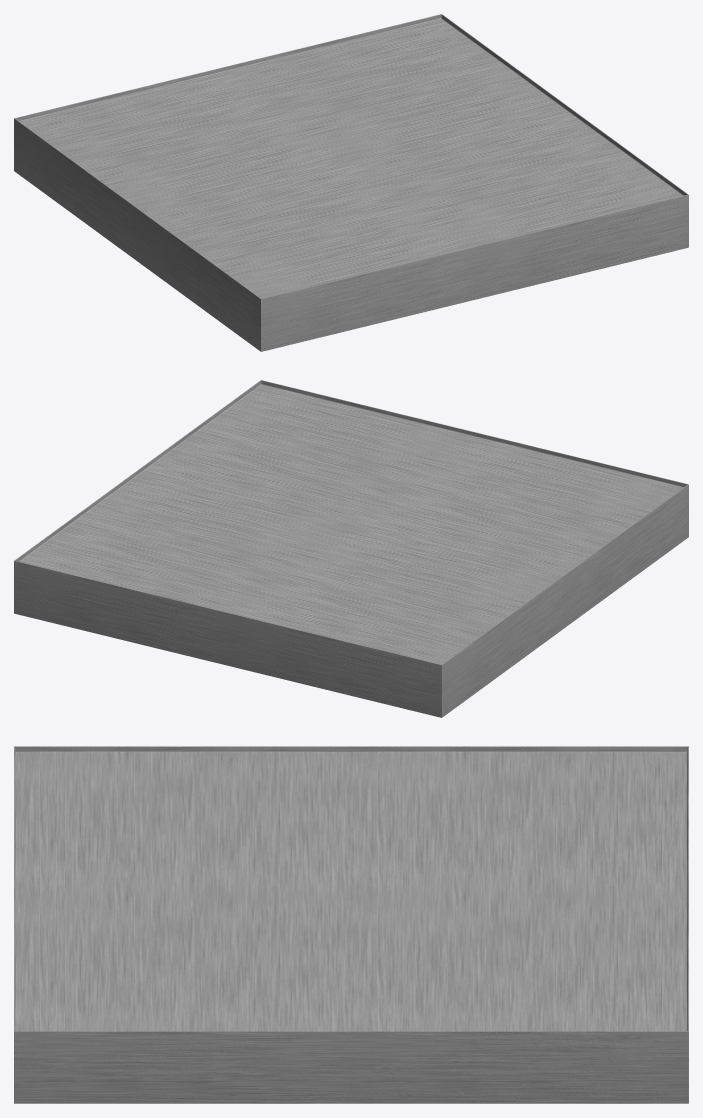
Rendered from AM152_005 Tlon Cubo 860 Ceiling.FBX.
The picture shows the model from 3 angles, top to bottom: view 1: azimuth 30°, elevation 25°; view 2: azimuth 150°, elevation 25°; view 3: azimuth 270°, elevation 25°; orthographic projection. The views are drawn at different scales.
Visible parts, largest first — view 1: AM152_005_body_m, AM152_005_body_s; view 2: AM152_005_body_m, AM152_005_body_s; view 3: AM152_005_body_m, AM152_005_body_s.
Boxes of the visible parts, x1=… form: AM152_005_body_m: x1=14, y1=14, x2=688, y2=350; AM152_005_body_s: x1=14, y1=15, x2=688, y2=351; AM152_005_body_m: x1=14, y1=380, x2=688, y2=715; AM152_005_body_s: x1=14, y1=381, x2=688, y2=717; AM152_005_body_m: x1=14, y1=746, x2=688, y2=1102; AM152_005_body_s: x1=14, y1=748, x2=688, y2=1103.
Size of the model in its own units: 86 by 10.15 by 86.
3 materials, 2 textured.
